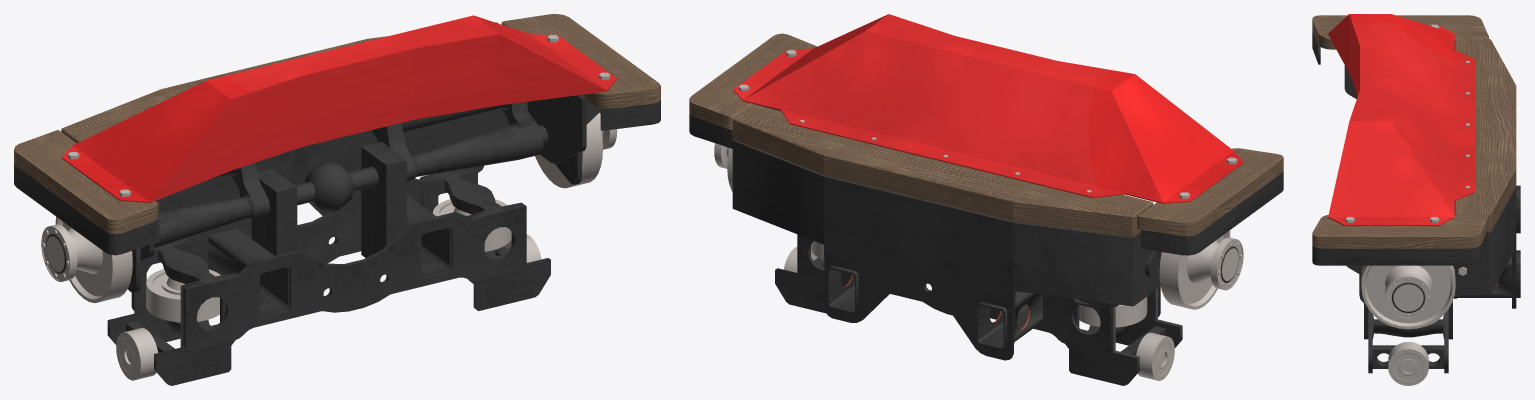
File: millflyfrontbogie.glb
The picture shows the model from 3 angles, left to right: view 1: azimuth 30°, elevation 25°; view 2: azimuth 150°, elevation 25°; view 3: azimuth 270°, elevation 25°; orthographic projection. The views are drawn at different scales.
Visible parts, largest first — view 1: Hood, Wheel Frame 1, Shocks, Wheel Frame, Wood 2, Plate Metal.001, Road Wheel, Chassis Tubes.001, Wheel Cover, Side Wheel, Wood 1, Upstop (+1 smaller); view 2: Hood, Plate Metal.001, Wood 1, Wood 2, Wheel Frame, Road Wheel, Wheel Frame 1, Chassis Tubes.001, Wheel Cover, Upstop, Side Wheel; view 3: Hood, Wood 1, Wood 2, Road Wheel, Wheel Cover, Plate Metal.001, Wheel Frame, Upstop, Chassis Tubes.001, Wheel Frame 1, Plate Metal.
Part boxes in pixels (<box>): Hood: <box>62,15,617,202</box>; Wheel Frame 1: <box>131,167,526,350</box>; Shocks: <box>154,102,548,257</box>; Wheel Frame: <box>107,168,550,385</box>; Wood 2: <box>14,14,660,234</box>; Plate Metal.001: <box>140,95,586,260</box>; Road Wheel: <box>41,108,617,302</box>; Chassis Tubes.001: <box>208,195,451,316</box>; Wheel Cover: <box>14,100,660,255</box>; Side Wheel: <box>146,199,511,322</box>; Wood 1: <box>61,22,498,142</box>; Upstop: <box>116,234,541,380</box>; Hood: <box>733,14,1243,203</box>; Plate Metal.001: <box>732,106,1160,360</box>; Wood 1: <box>732,104,1153,237</box>; Wood 2: <box>689,33,1283,236</box>; Wheel Frame: <box>775,245,1182,385</box>; Road Wheel: <box>714,143,1243,309</box>; Wheel Frame 1: <box>797,234,1160,353</box>; Chassis Tubes.001: <box>827,265,1042,350</box>; Wheel Cover: <box>689,112,1283,255</box>; Upstop: <box>783,247,1174,380</box>; Side Wheel: <box>811,241,1147,327</box>; Hood: <box>1328,14,1475,225</box>; Wood 1: <box>1454,39,1516,232</box>; Wood 2: <box>1312,15,1488,248</box>; Road Wheel: <box>1361,265,1455,329</box>; Wheel Cover: <box>1312,31,1487,265</box>; Plate Metal.001: <box>1344,65,1516,308</box>; Wheel Frame: <box>1368,309,1448,373</box>; Upstop: <box>1388,342,1428,385</box>; Chassis Tubes.001: <box>1457,185,1520,297</box>; Wheel Frame 1: <box>1364,301,1452,339</box>; Plate Metal: <box>1359,265,1470,303</box>.
Size of the model in its own units: 1.24 by 0.6206 by 0.4922.
Materials: 1 (1 with a texture image).
